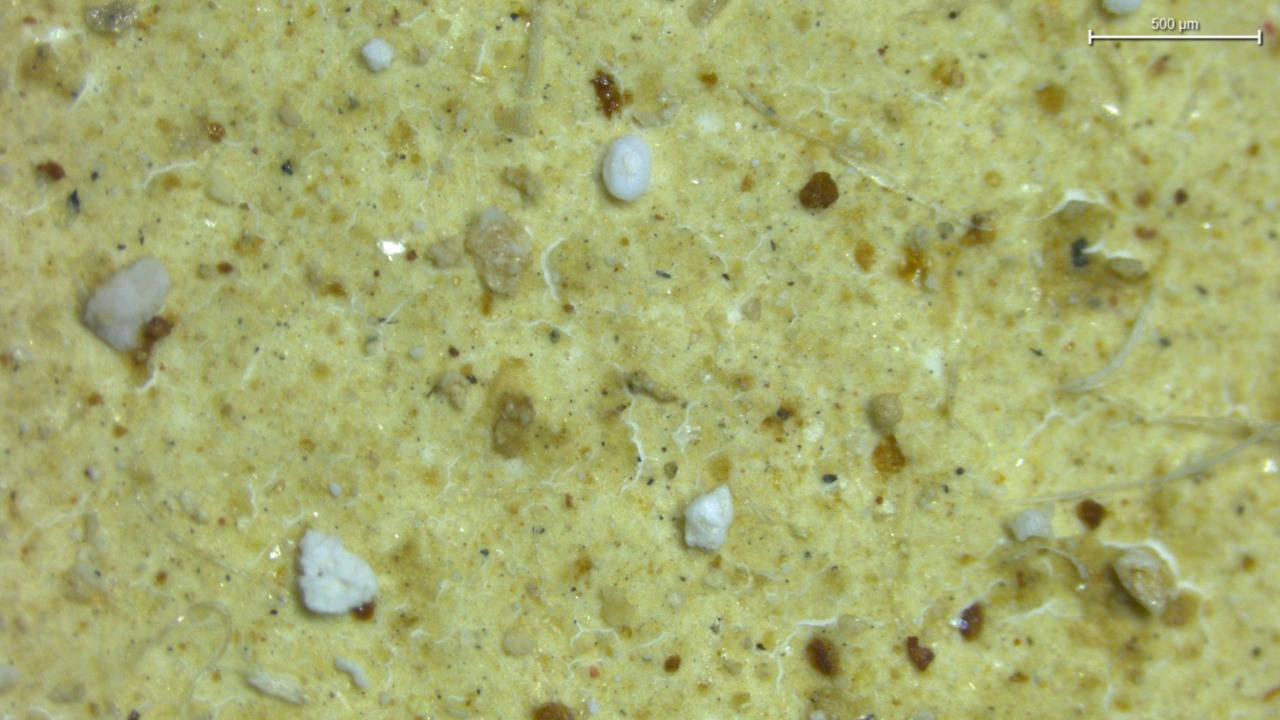microplastic_fragment: (82, 257, 170, 351), (297, 529, 377, 614), (1113, 548, 1177, 615), (603, 133, 651, 201), (684, 485, 733, 551), (1008, 509, 1051, 541), (361, 38, 395, 72)
